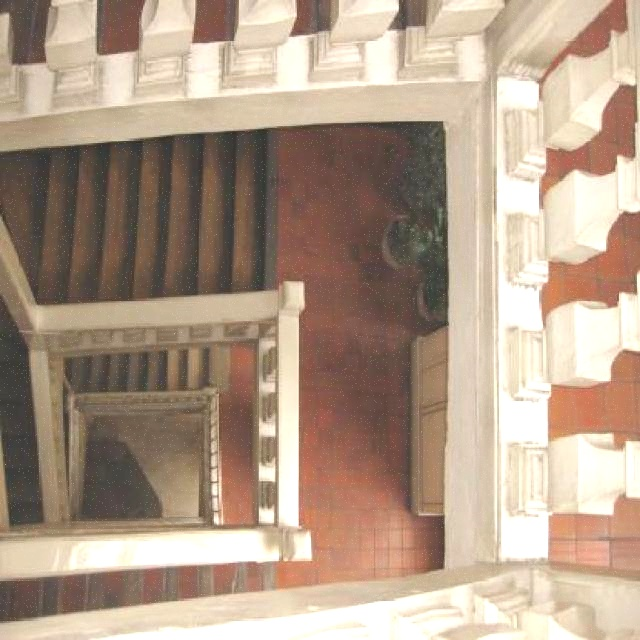stair: (0, 15, 315, 365)
